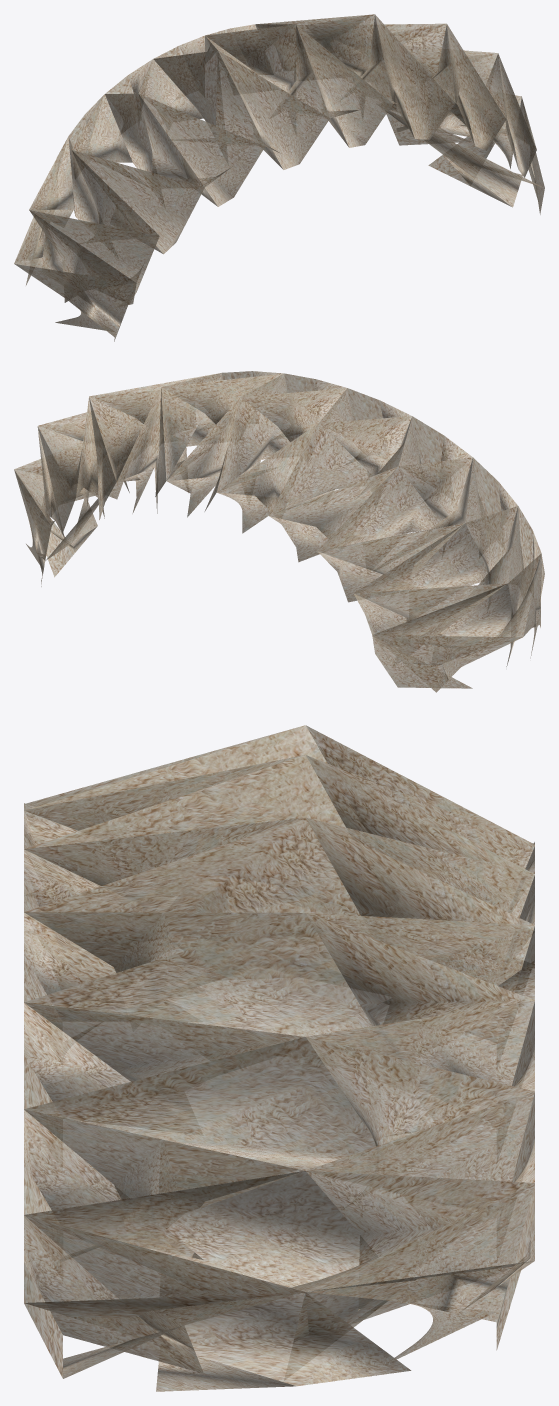
Rendered from u1-3-fur.glb.
3 renders of one model, top to bottom at view 1: azimuth 30°, elevation 25°; view 2: azimuth 150°, elevation 25°; view 3: azimuth 270°, elevation 25°, orthographic. The views are drawn at different scales.
Parts seen in each view (by area): view 1: [0]; view 2: [0]; view 3: [0].
Boxes of the visible parts, left/top/right/bottom form: [0]: left=14, top=14, right=544, bottom=341; [0]: left=14, top=371, right=544, bottom=692; [0]: left=24, top=725, right=534, bottom=1391.
Bounding box in the file's own units: 4.57 × 1.86 × 1.99.
Materials: 1 (1 with a texture image).
